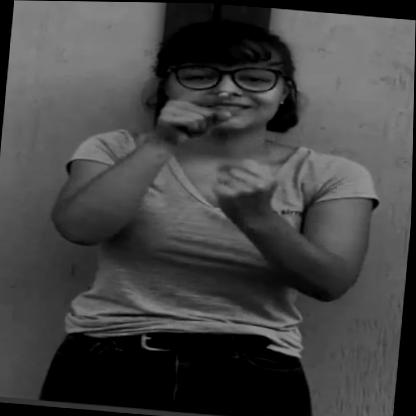NiceToMeetYou: (29, 0, 412, 416)
